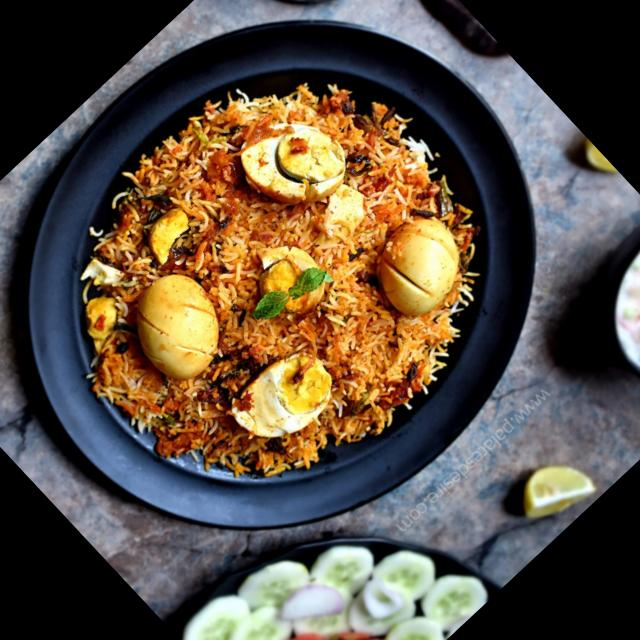Biryani: (0, 3, 557, 560)
